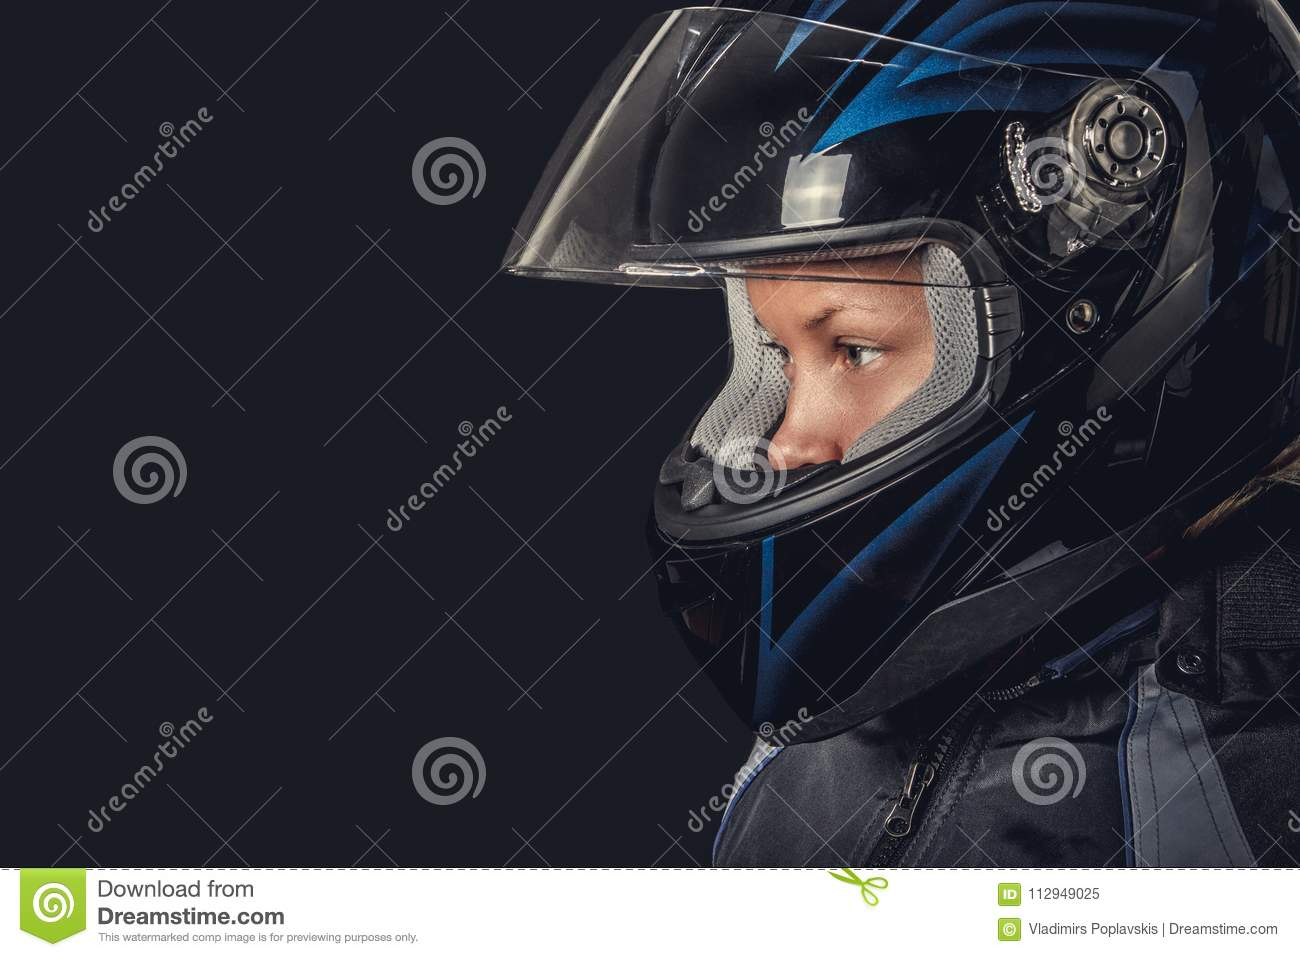helmet: (580, 24, 1293, 669)
